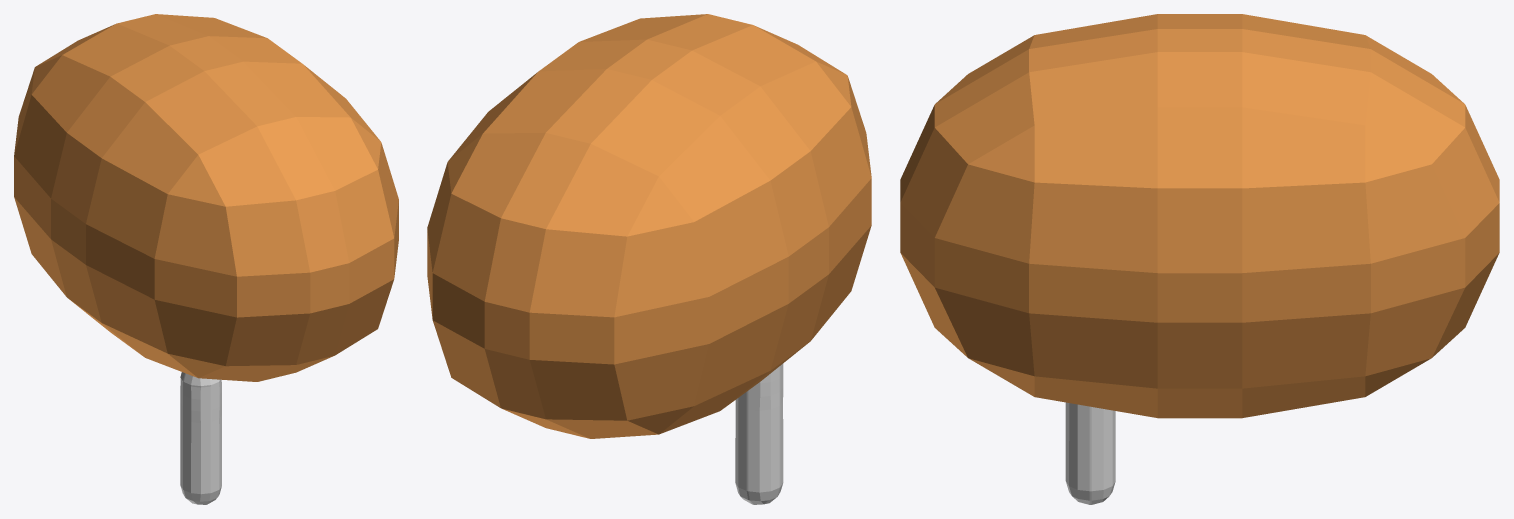
Rendered from chat-color.glb.
The picture shows the model from 3 angles, left to right: view 1: azimuth 30°, elevation 25°; view 2: azimuth 150°, elevation 25°; view 3: azimuth 270°, elevation 25°; orthographic projection. The views are drawn at different scales.
Parts seen in each view (by area): view 1: CAT body, Cube; view 2: CAT body, Cube; view 3: CAT body, Cube.
Boxes of the visible parts, bbox=[...] form: CAT body: bbox=[14, 14, 398, 381]; Cube: bbox=[180, 372, 221, 504]; CAT body: bbox=[427, 14, 871, 438]; Cube: bbox=[735, 363, 783, 504]; CAT body: bbox=[900, 14, 1499, 418]; Cube: bbox=[1065, 402, 1115, 504].
Size of the model in its own units: 2 by 2.8 by 3.09.
